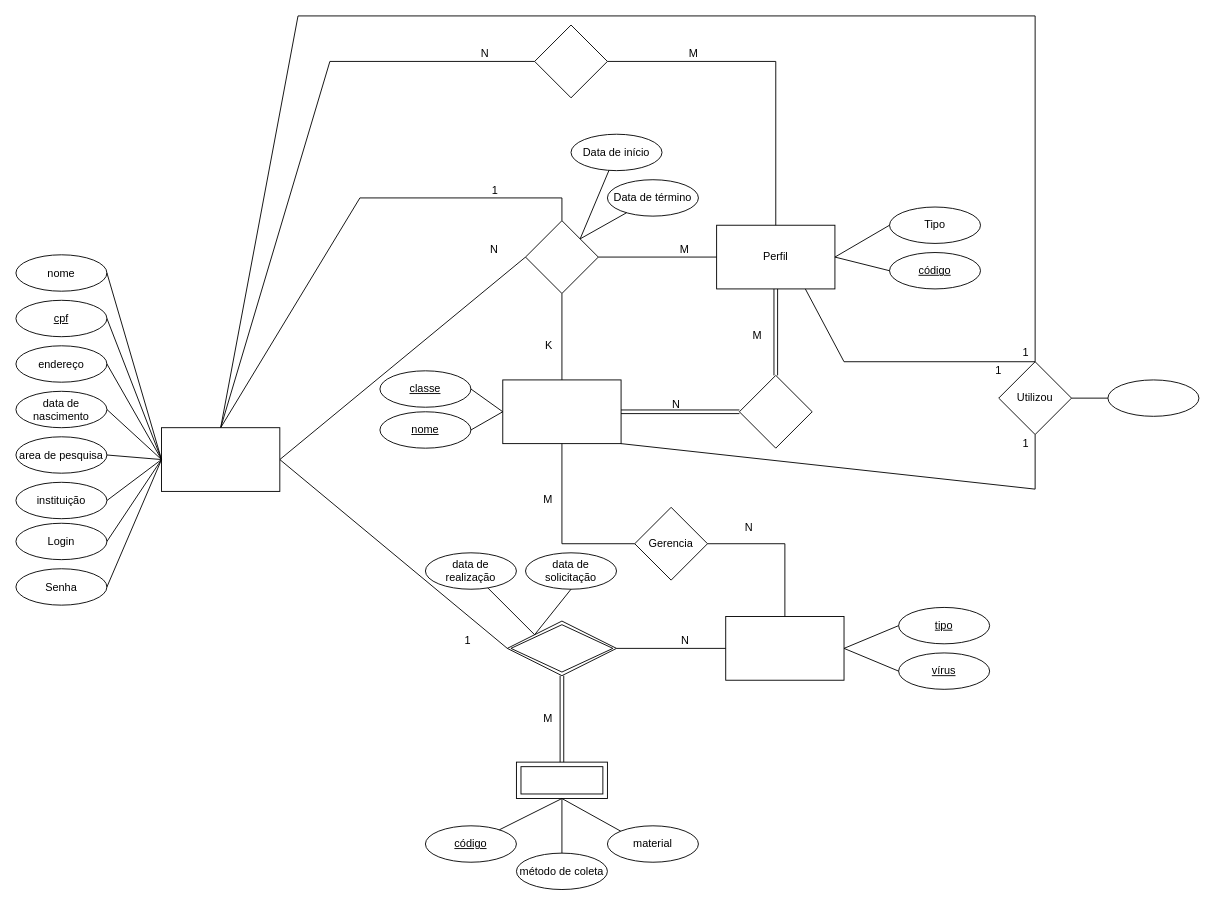
The diagram is 1215 pixels wide and 905 high, and some of its shapes have lost their labels. The centre of each missing label's shape, as x and y in pixels:
"Amostra" belongs at pixel 561 780.
"Data de uso" belongs at pixel 1153 397.
"Exame" belongs at pixel 784 648.
"Pertence" belongs at pixel 775 411.
"Pessoa" belongs at pixel 220 459.
"Possui" belongs at pixel 570 61.
"Realiza" belongs at pixel 561 648.
"Serviço" belongs at pixel 561 411.
"Tutelamento" belongs at pixel 561 256.
